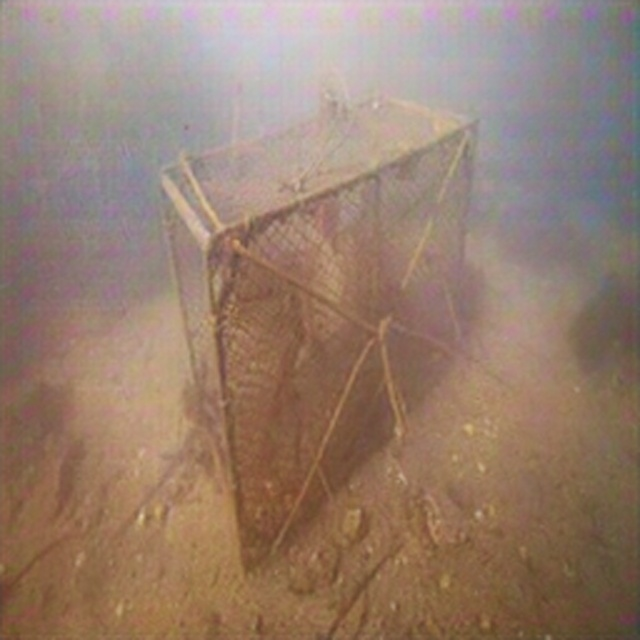mine: (156, 90, 480, 577)
